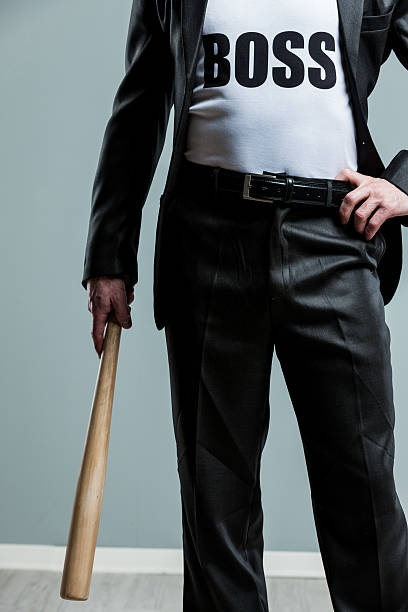bita: (54, 289, 133, 608)
